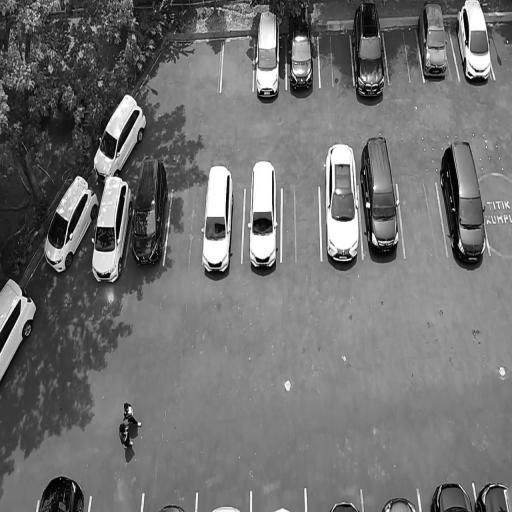Car: (434, 132, 493, 268), (35, 166, 101, 279), (84, 83, 152, 185), (360, 131, 403, 271), (320, 137, 362, 275), (85, 175, 136, 286), (0, 270, 40, 388), (131, 152, 168, 270), (246, 157, 281, 279), (200, 159, 234, 284), (351, 1, 387, 103), (254, 7, 284, 106), (288, 1, 316, 98), (36, 471, 85, 512), (431, 481, 475, 512), (476, 480, 511, 512), (381, 495, 420, 512), (330, 500, 358, 512)
Space Available: (397, 182, 448, 259), (164, 181, 207, 265), (282, 185, 322, 261), (480, 183, 512, 257), (383, 25, 423, 84), (318, 30, 353, 89), (220, 33, 254, 91), (486, 18, 512, 82)
